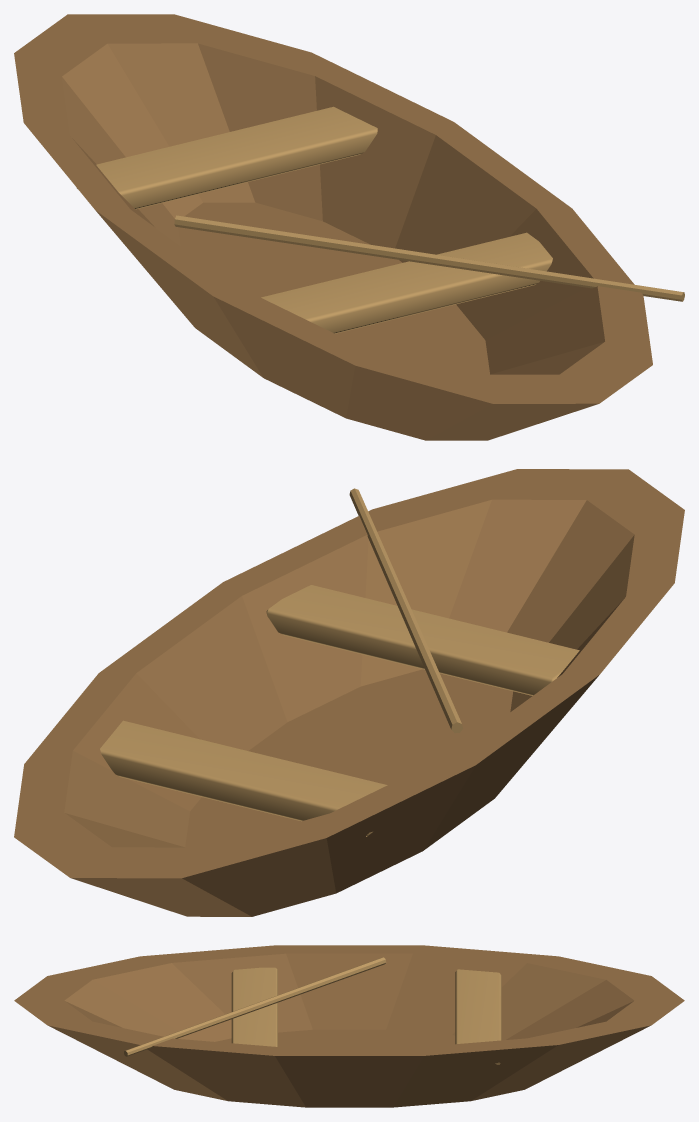
The model's file is boat.glb.
The picture shows the model from 3 angles, top to bottom: view 1: azimuth 30°, elevation 25°; view 2: azimuth 150°, elevation 25°; view 3: azimuth 270°, elevation 25°; orthographic projection. The views are drawn at different scales.
Parts seen in each view (by area): view 1: boat__Boat_hull, boat__Boat_inside; view 2: boat__Boat_hull, boat__Boat_inside; view 3: boat__Boat_hull, boat__Boat_inside.
Boxes of the visible parts, bbox=[...] form: boat__Boat_hull: bbox=[14, 14, 652, 440]; boat__Boat_inside: bbox=[77, 106, 684, 333]; boat__Boat_hull: bbox=[14, 469, 684, 916]; boat__Boat_inside: bbox=[100, 488, 579, 836]; boat__Boat_hull: bbox=[14, 945, 684, 1107]; boat__Boat_inside: bbox=[124, 957, 501, 1064].
Bounding box in the file's own units: 1.52 × 0.502 × 3.9.
